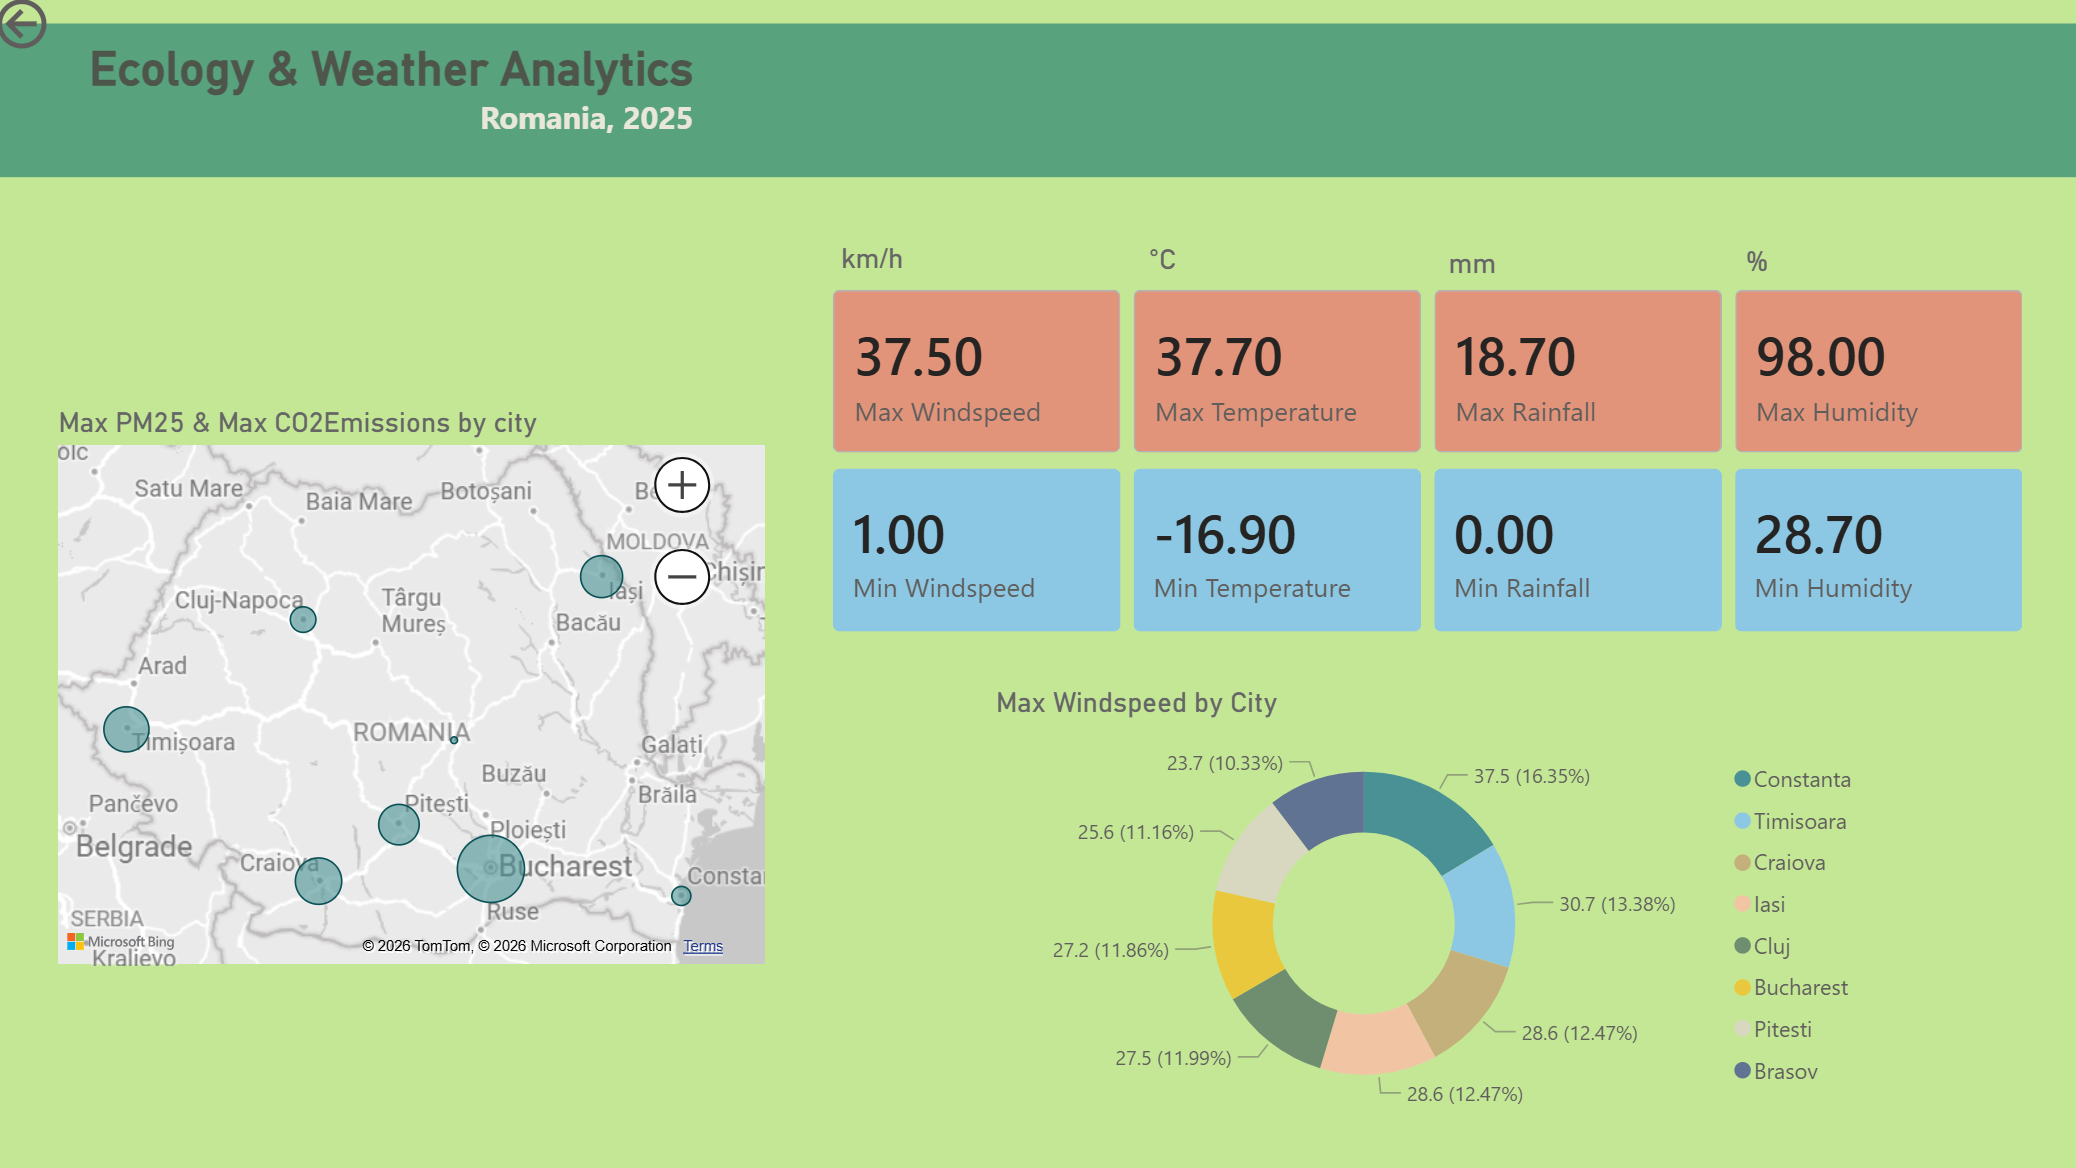

The page's visual inventory and layout, read from the dashboard file:
{"tool":"powerbi","page":{"name":"Trends & Extremes","canvas":[1280,720],"ordinal":1},"visuals":[{"type":"shape","box":[0,19.8,1280.2,93.7],"z":0},{"type":"textbox","box":[14.5,25.1,419.6,52.5],"z":1000},{"type":"cardVisual","fields":{"Data":["FactWeather.Min Windspeed","FactWeather.Min Temperature","FactWeather.Min Rainfall","FactWeather.Min Humidity"]},"box":[497.1,273.9,761.9,133.2],"z":1000,"group":"g1"},{"type":"textbox","box":[151.5,59.4,282.5,54.1],"z":2000},{"type":"cardVisual","fields":{"Data":["FactWeather.Max Windspeed","FactWeather.Max Temperature","FactWeather.Max Rainfall","FactWeather.Max Humidity"]},"box":[497.3,165.2,761.9,133.2],"z":2000,"group":"g2"},{"type":"actionButton","box":[0,0,100,40],"z":3000},{"type":"donutChart","fields":{"Category":["DimLocation.City"],"Y":["FactWeather.Max Windspeed"]},"box":[608.2,423.2,540.4,270.2],"z":4000},{"type":"group","id":"g1","title":"Group 2","box":[497.1,147.7,761.9,259.6],"z":5000},{"type":"group","id":"g2","title":"Group 1","box":[497.3,147.7,761.9,150.7],"z":5000,"group":"g1"},{"type":"map","title":"Max PM25 & Max CO2Emissions by city","fields":{"Category":["DimLocation.City"],"Size":["FactAirQuality.Max PM25"]},"box":[37.3,252.7,440,345.6],"z":6000},{"type":"textbox","box":[701.3,148.8,138.5,35],"z":7000,"group":"g2"},{"type":"textbox","box":[1065.1,150.3,138.5,35],"z":11000,"group":"g2"},{"type":"textbox","box":[883.8,150.6,138.5,35],"z":13000,"group":"g2"},{"type":"textbox","box":[514.2,147.7,140.1,35],"z":14000,"group":"g2"}]}

Visuals, with their boxes in screenshot pixels (x1, y1, x2, y2), scaled from the page's 1280x720 canvas onto the 2076x1168 screenshot:
shape: [left=0, top=32, right=2075, bottom=184]
textbox: [left=24, top=41, right=704, bottom=126]
cardVisual - FactWeather.Min Windspeed x FactWeather.Min Temperature: [left=806, top=444, right=2042, bottom=660]
textbox: [left=246, top=96, right=704, bottom=184]
cardVisual - FactWeather.Max Windspeed x FactWeather.Max Temperature: [left=807, top=268, right=2042, bottom=484]
actionButton: [left=0, top=0, right=162, bottom=65]
donutChart - DimLocation.City x FactWeather.Max Windspeed: [left=986, top=687, right=1863, bottom=1125]
"Group 2" group: [left=806, top=240, right=2042, bottom=661]
"Group 1" group: [left=807, top=240, right=2042, bottom=484]
"Max PM25 & Max CO2Emissions by city" map: [left=60, top=410, right=774, bottom=971]
textbox: [left=1137, top=241, right=1362, bottom=298]
textbox: [left=1727, top=244, right=1952, bottom=301]
textbox: [left=1433, top=244, right=1658, bottom=301]
textbox: [left=834, top=240, right=1061, bottom=296]
